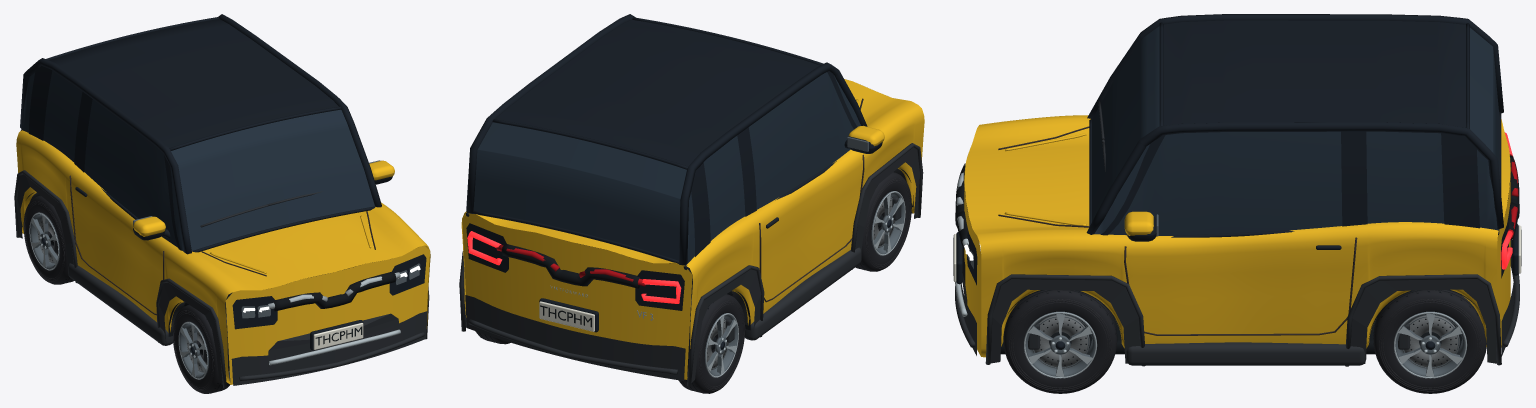
3 views of the same model, side by side, from view 1: azimuth 30°, elevation 25°; view 2: azimuth 150°, elevation 25°; view 3: azimuth 270°, elevation 25° (orthographic). The views are drawn at different scales.
Parts seen in each view (by area): view 1: body, wheel_FR, wheel_RR; view 2: body, wheel_RR, wheel_FR; view 3: body, wheel_FL, wheel_RL.
Boxes of the visible parts, x1,y1,x2,y2 form: body: (14,14,430,388); wheel_FR: (173,305,230,393); wheel_RR: (23,195,73,284); body: (459,14,924,386); wheel_RR: (678,294,745,393); wheel_FR: (855,172,911,271); body: (953,14,1521,366); wheel_FL: (1003,290,1117,393); wheel_RL: (1373,290,1486,393).
Bounding box in the file's own units: 2.05 × 1.65 × 3.19.
